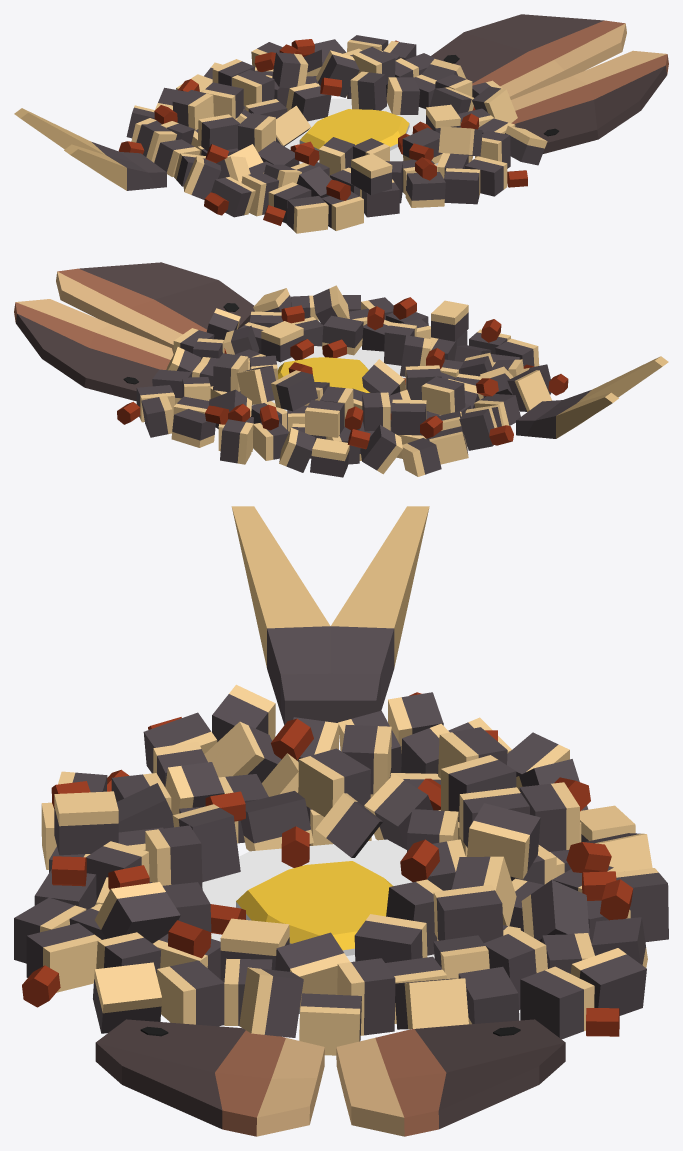
File: Bangus sisig.fbx
3 views of the same model, one above another, from view 1: azimuth 30°, elevation 25°; view 2: azimuth 150°, elevation 25°; view 3: azimuth 270°, elevation 25° (orthographic). The views are drawn at different scales.
Visible parts, largest first — view 1: Bangus Sisig; view 2: Bangus Sisig; view 3: Bangus Sisig.
Part boxes in pixels (left/top/right/bottom): Bangus Sisig: left=14, top=14, right=668, bottom=233; Bangus Sisig: left=14, top=262, right=668, bottom=477; Bangus Sisig: left=14, top=506, right=668, bottom=1136.
Size of the model in its own units: 136 by 20.65 by 72.05.
